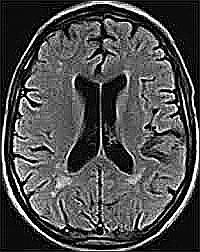Normal_Brain: (3, 2, 200, 252)
